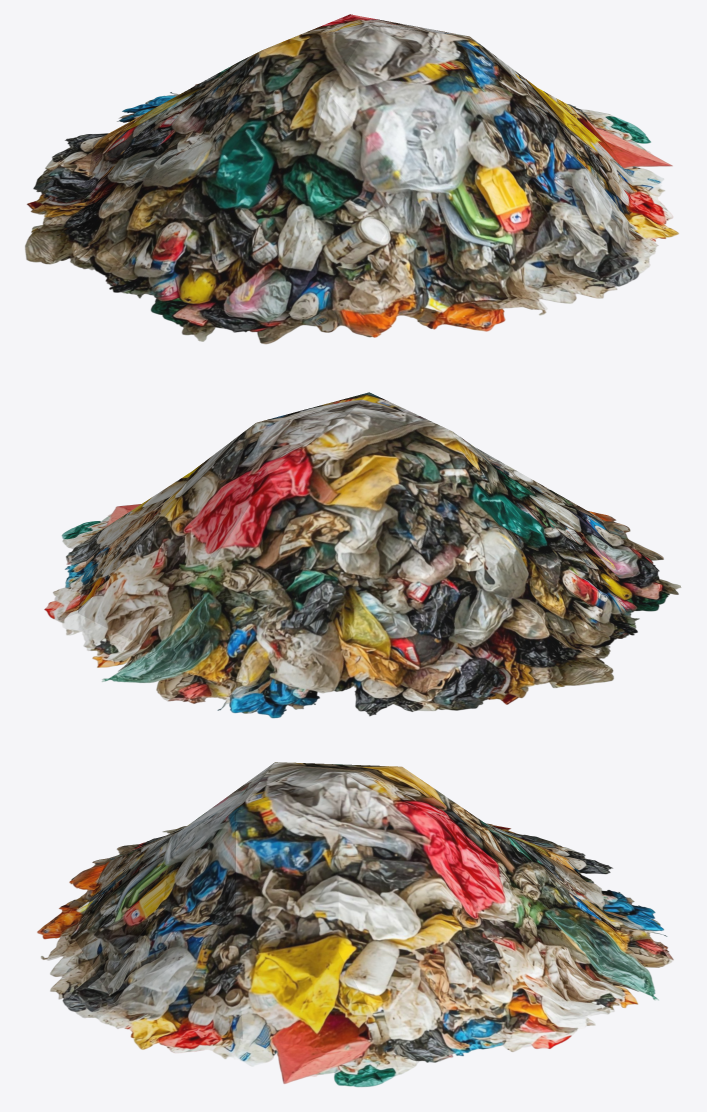
File: trash-pile_01.glb
3 renders of one model, top to bottom at view 1: azimuth 30°, elevation 25°; view 2: azimuth 150°, elevation 25°; view 3: azimuth 270°, elevation 25°, orthographic. The views are drawn at different scales.
Visible parts, largest first — view 1: trash-pile_01; view 2: trash-pile_01; view 3: trash-pile_01.
Boxes of the visible parts, x1=… form: trash-pile_01: x1=25, y1=14, x2=678, y2=344; trash-pile_01: x1=44, y1=392, x2=681, y2=718; trash-pile_01: x1=37, y1=762, x2=673, y2=1087.
Bounding box in the file's own units: 6.73 × 1.94 × 6.6.
1 material, 1 textured.
